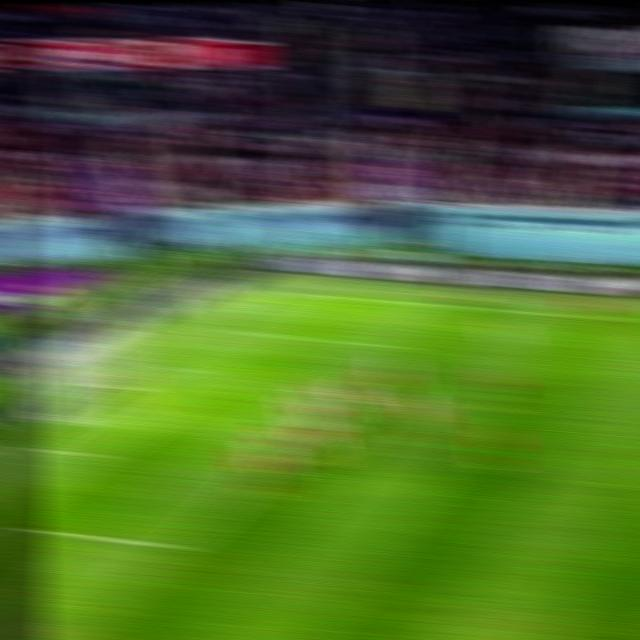bigarea_bottom_inner: (159, 535, 197, 559)
bigarea_top_inner: (384, 340, 413, 353)
bigarea_top_outter: (204, 323, 233, 334)
corner: (266, 288, 295, 296)
smallarea_bottom_inner: (83, 446, 116, 463)
smallarea_bottom_outter: (10, 439, 40, 454)
smallarea_top_inner: (203, 365, 234, 379)
smallarea_top_outter: (144, 360, 175, 372)
